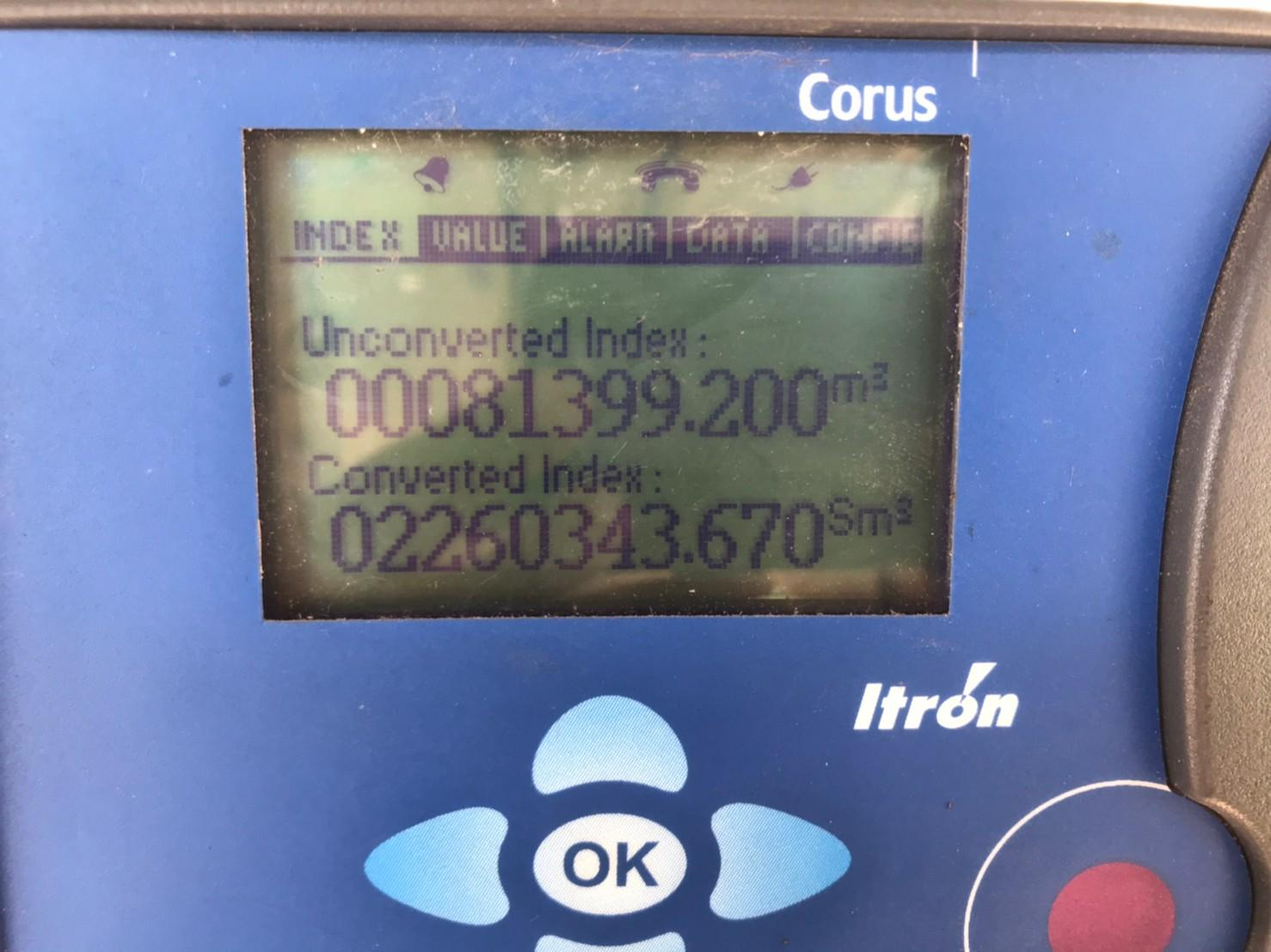digital_screen: (243, 128, 968, 621)
